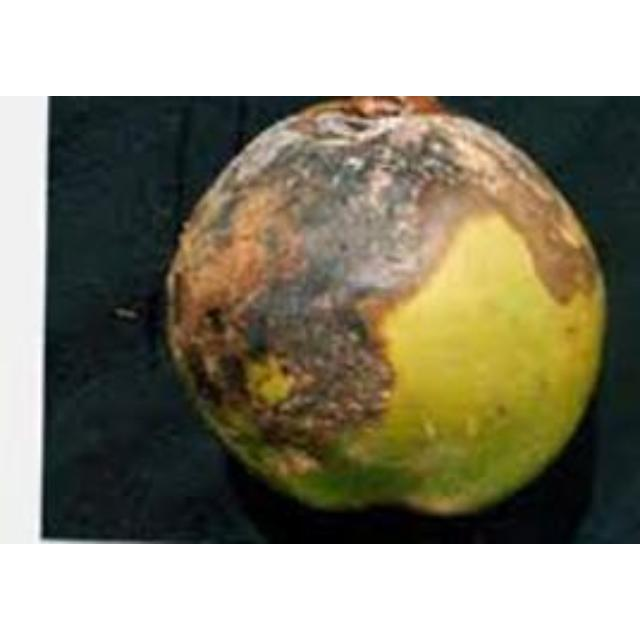damaged: (160, 96, 607, 538)
